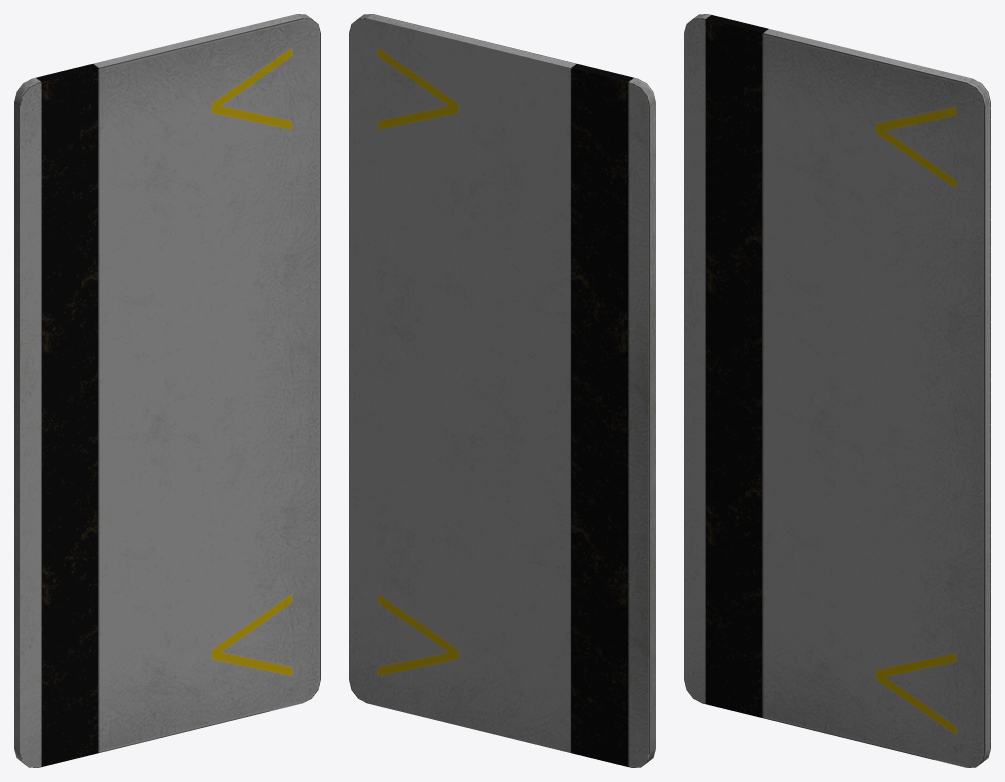
The model's file is Keycard.fbx.
3 renders of one model, left to right at view 1: azimuth 30°, elevation 25°; view 2: azimuth 150°, elevation 25°; view 3: azimuth 330°, elevation 25°, orthographic.
Visible parts, largest first — view 1: Keycard; view 2: Keycard; view 3: Keycard.
Boxes of the visible parts, x1,y1,x2,y2 form: Keycard: (14,14,320,767); Keycard: (349,14,655,767); Keycard: (684,14,990,767).
Bounding box in the file's own units: 6.81 × 14.83 × 0.2342.
